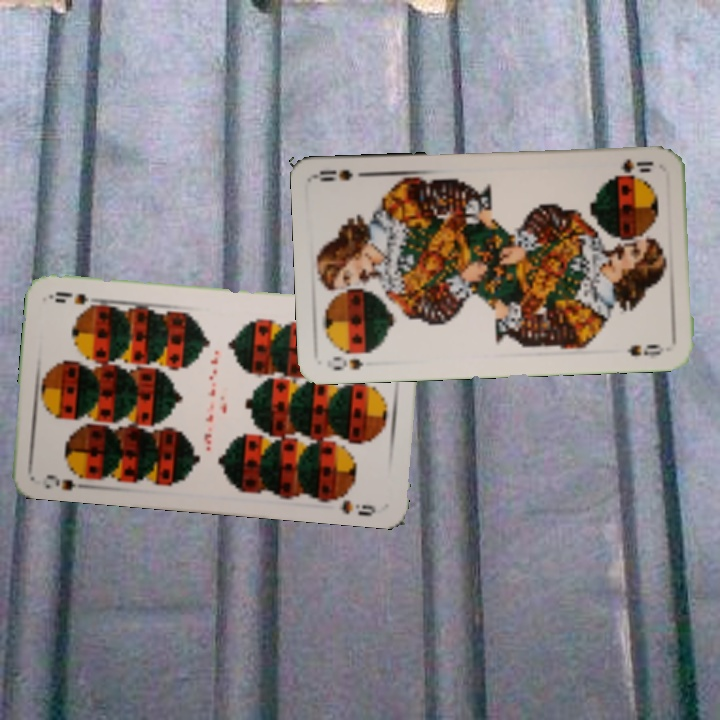S9: (42, 466, 93, 493)
SO: (610, 154, 656, 179), (328, 352, 365, 373)
